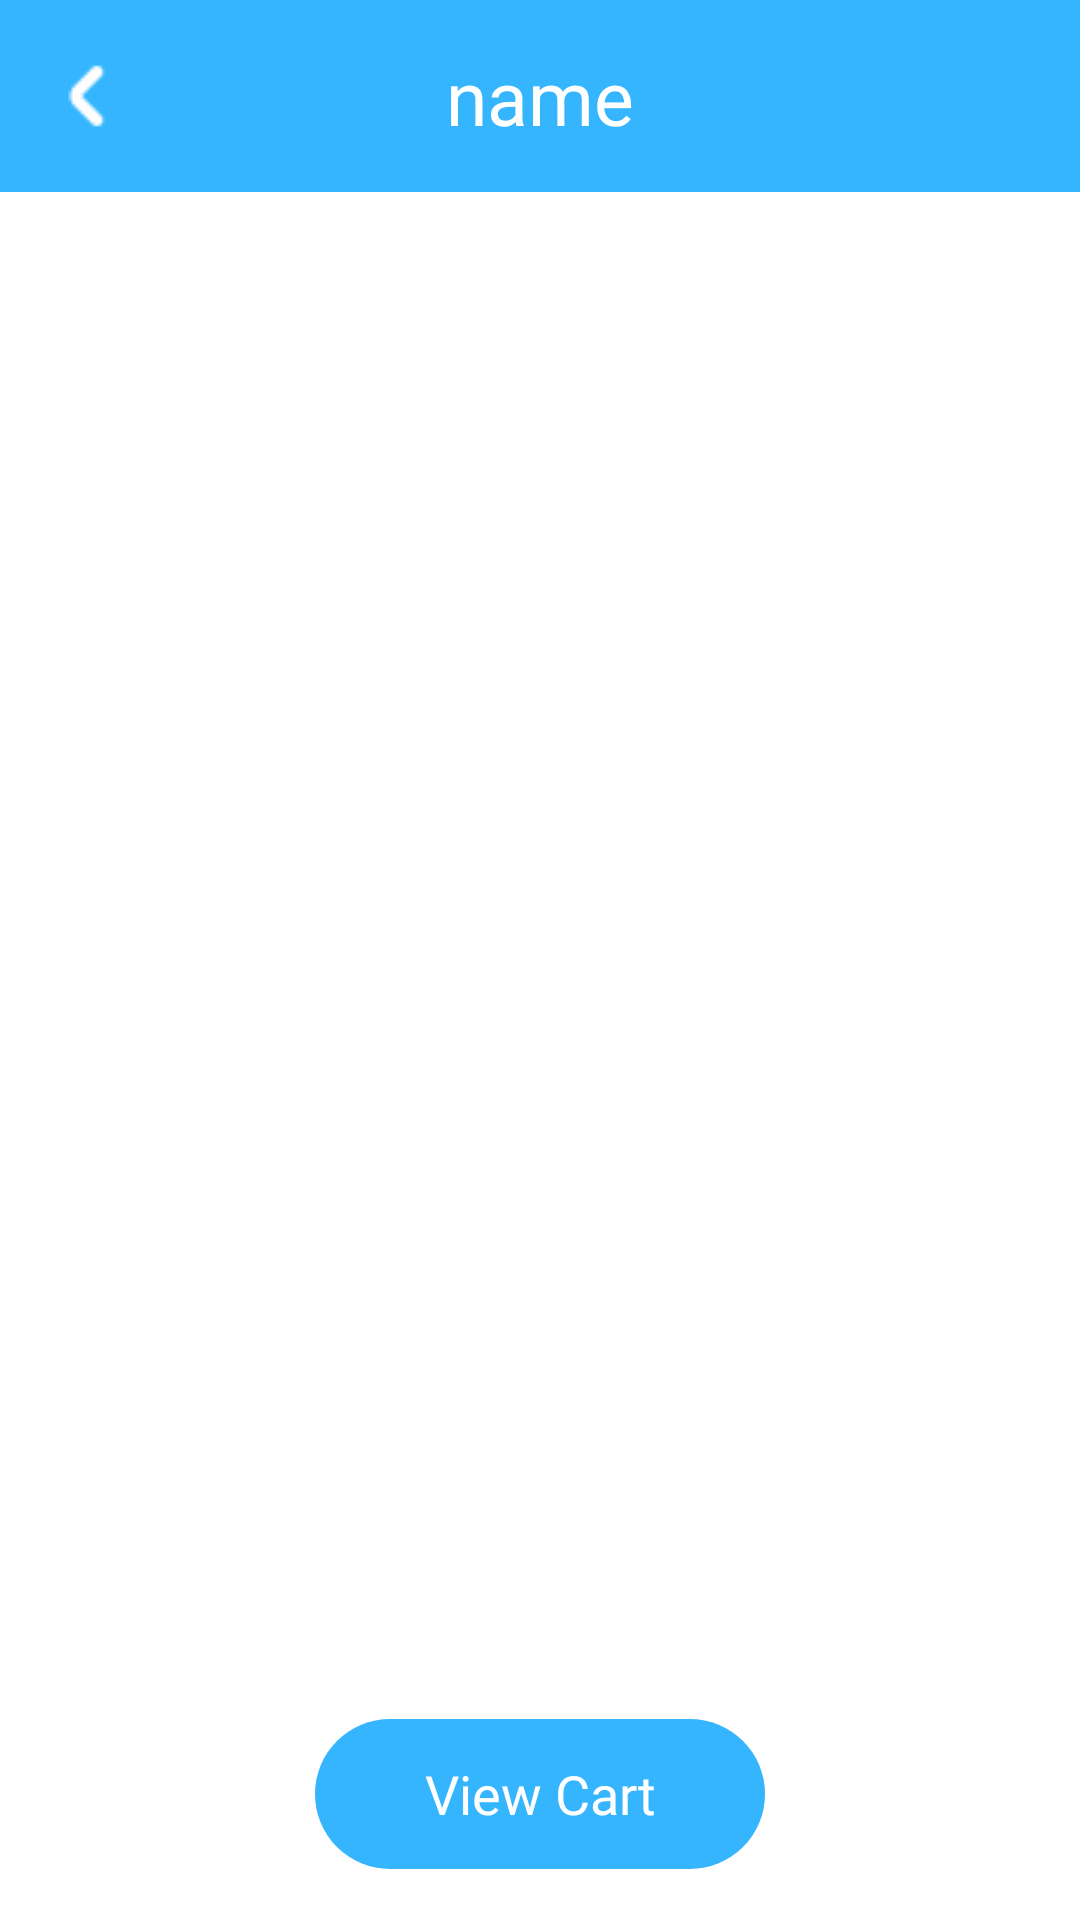

Named icons in this screenshot (1080px×1920px) and their bounding boxes, (x1, y1, x2, y2):
back arrow: (68, 65, 105, 127)
